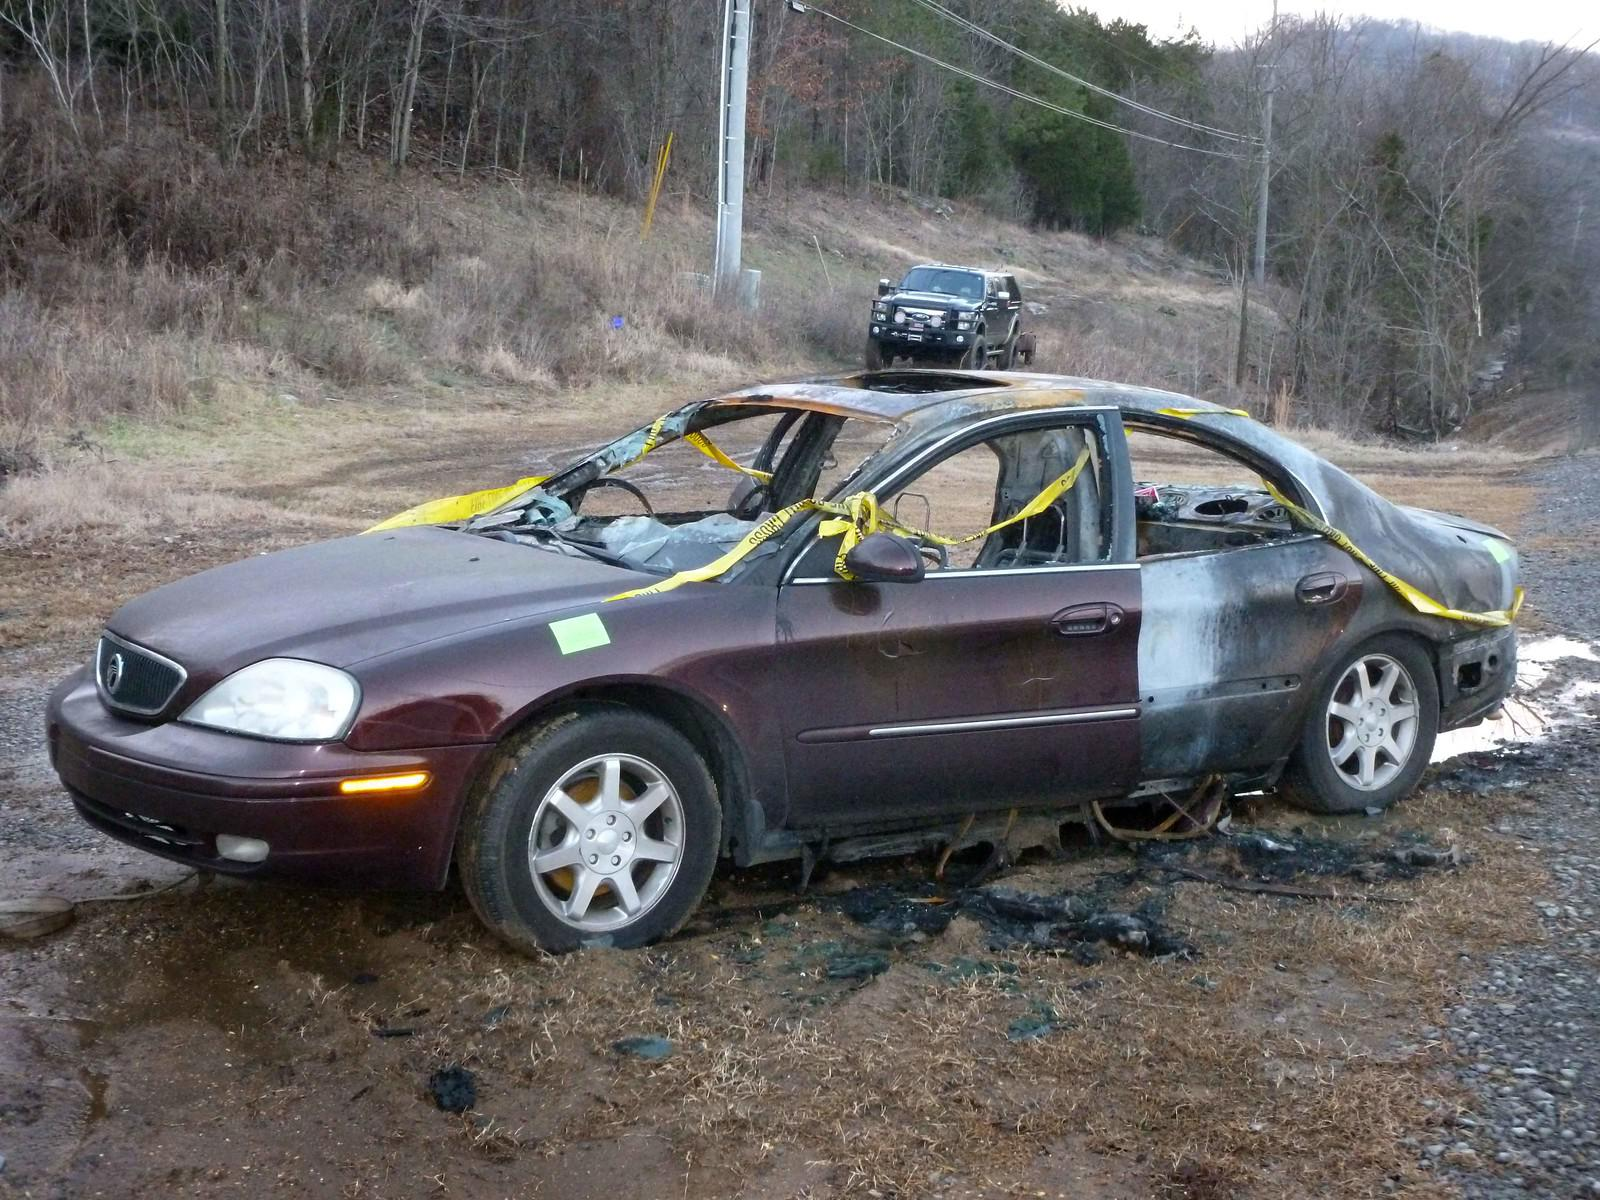Front-Windscreen-Damage: (524, 376, 867, 576)
doorouter-dent: (1148, 543, 1347, 746)
roof-dent: (721, 345, 1212, 426)
